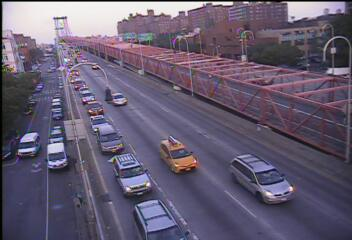neg: (125, 29, 136, 44)
